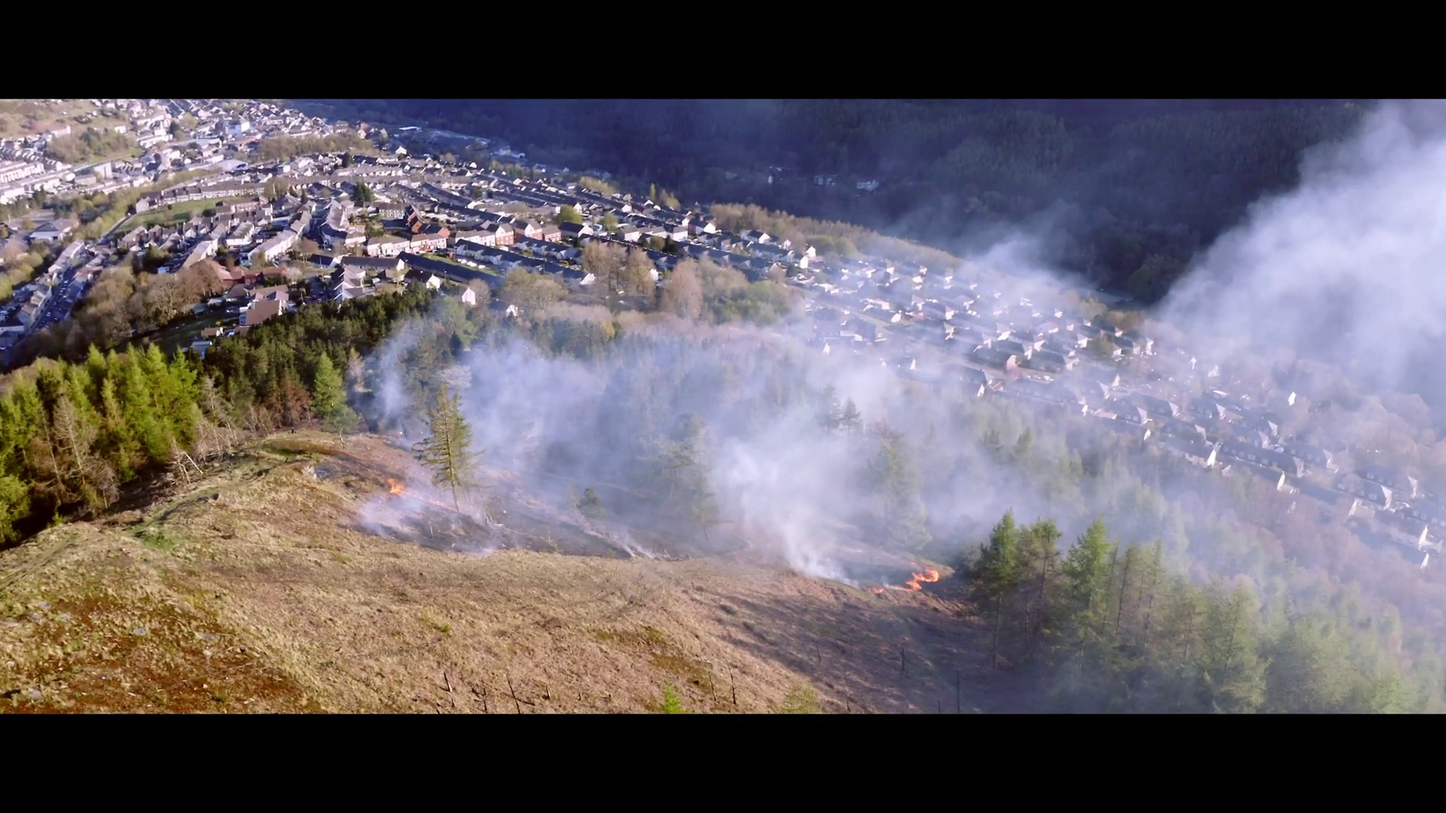forest_fire: (388, 477, 456, 512), (868, 562, 939, 594)
